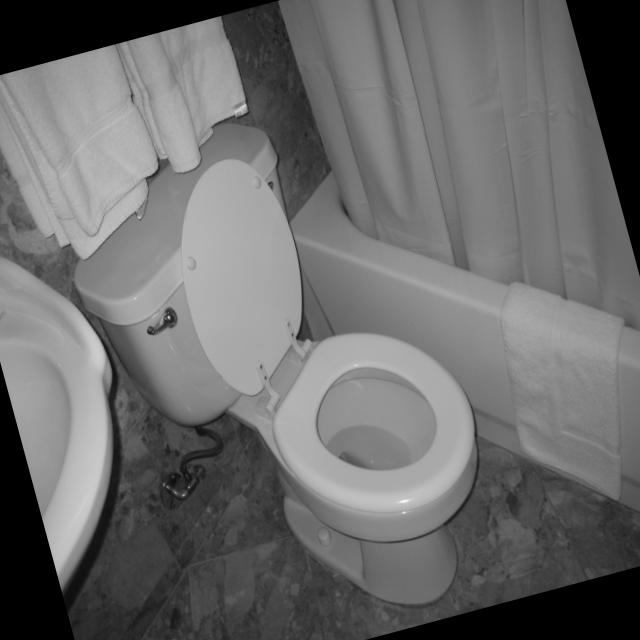toilet bowl: (76, 123, 480, 605)
